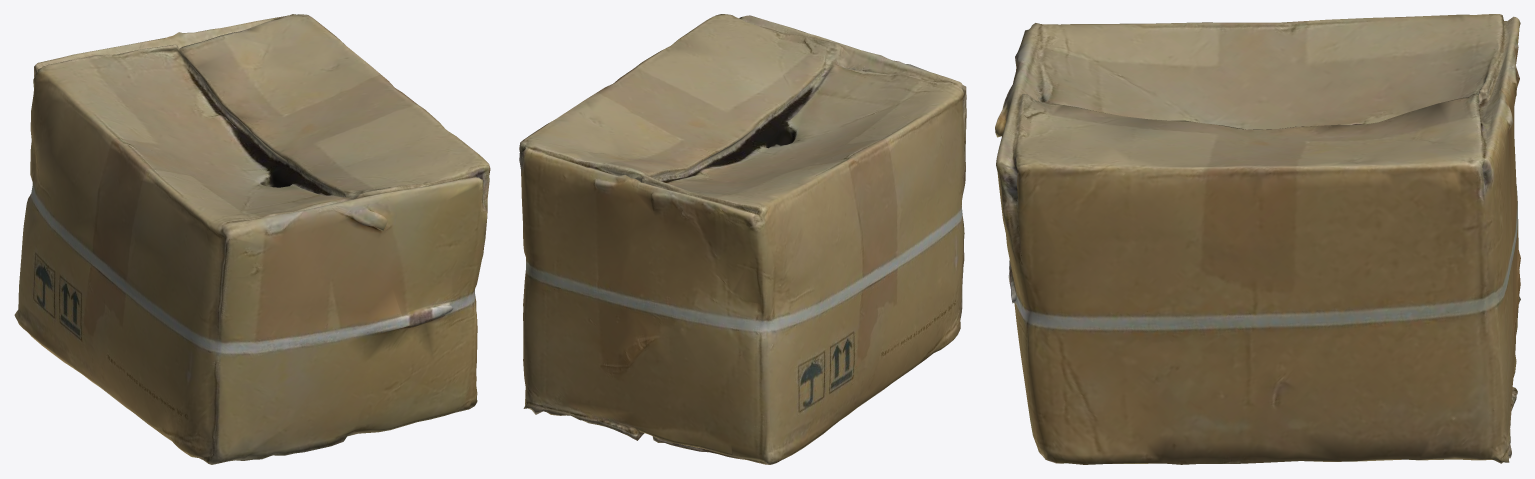
The model's file is cardboard-box.glb.
3 views of the same model, side by side, from view 1: azimuth 30°, elevation 25°; view 2: azimuth 150°, elevation 25°; view 3: azimuth 270°, elevation 25° (orthographic). The views are drawn at different scales.
Visible parts, largest first — view 1: cardboard_box_01; view 2: cardboard_box_01; view 3: cardboard_box_01.
Boxes of the visible parts, x1,y1,x2,y2 form: cardboard_box_01: [14, 14, 490, 464]; cardboard_box_01: [519, 14, 966, 464]; cardboard_box_01: [995, 14, 1520, 464].
Size of the model in its own units: 0.3869 by 0.3418 by 0.5159.
1 material, 1 textured.
